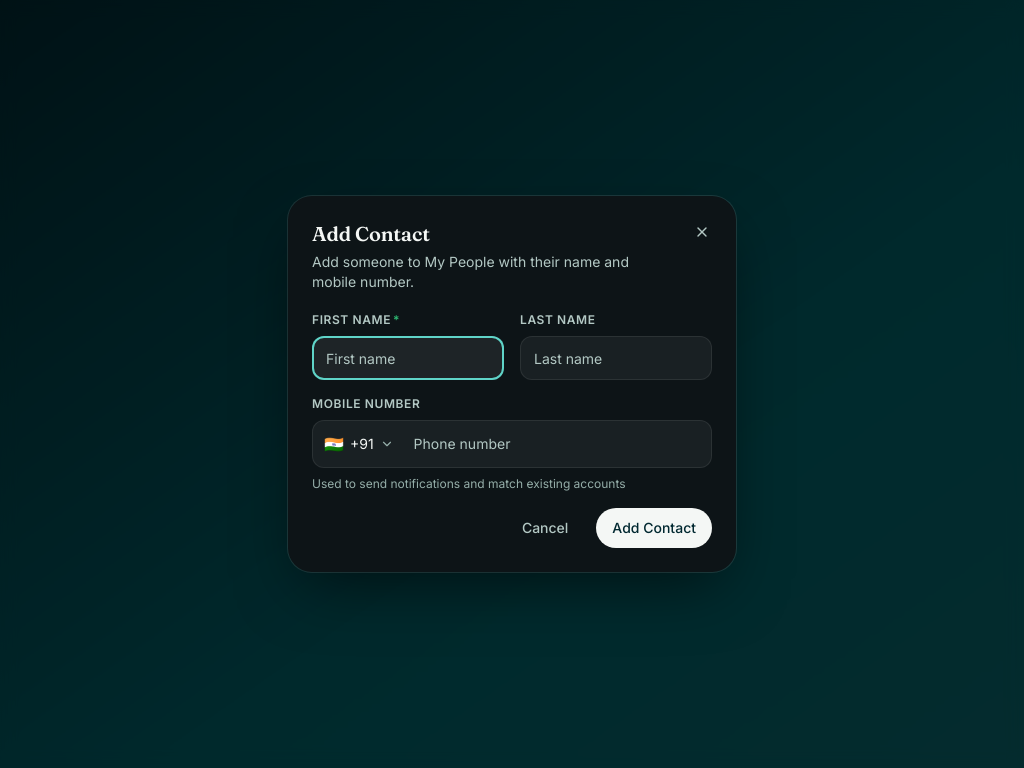
Test case: AddContactDialog (integration) › requires a first name
The image size is (1024, 768).
Click the button "Add Contact" at (654, 528), box [596,508,712,548]
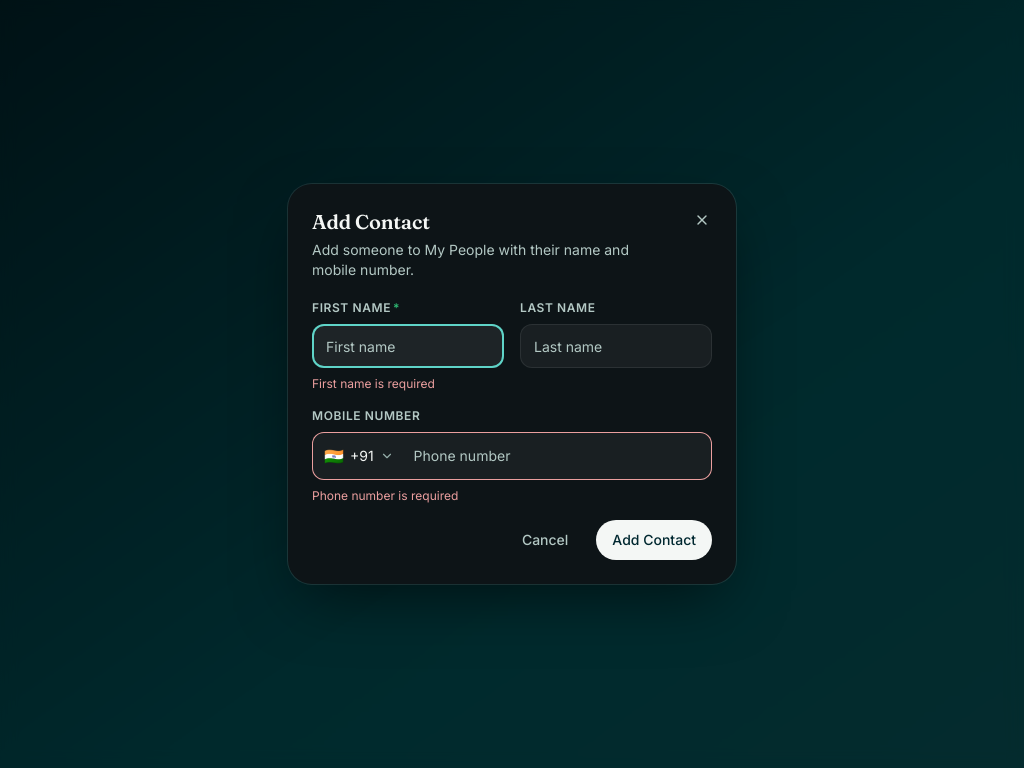
Expected: the text "First name is required" is shown, [312,376,435,391]
